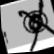not correct: (10, 0, 54, 53)
